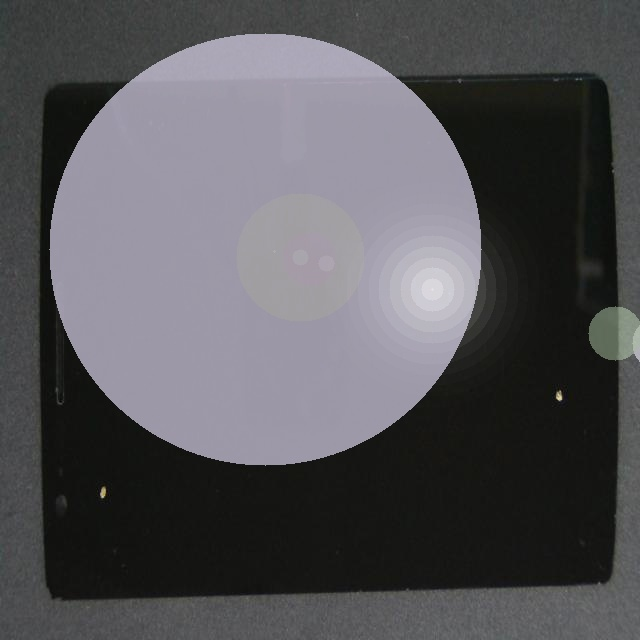stain: (281, 155, 640, 560), (67, 199, 136, 640)
